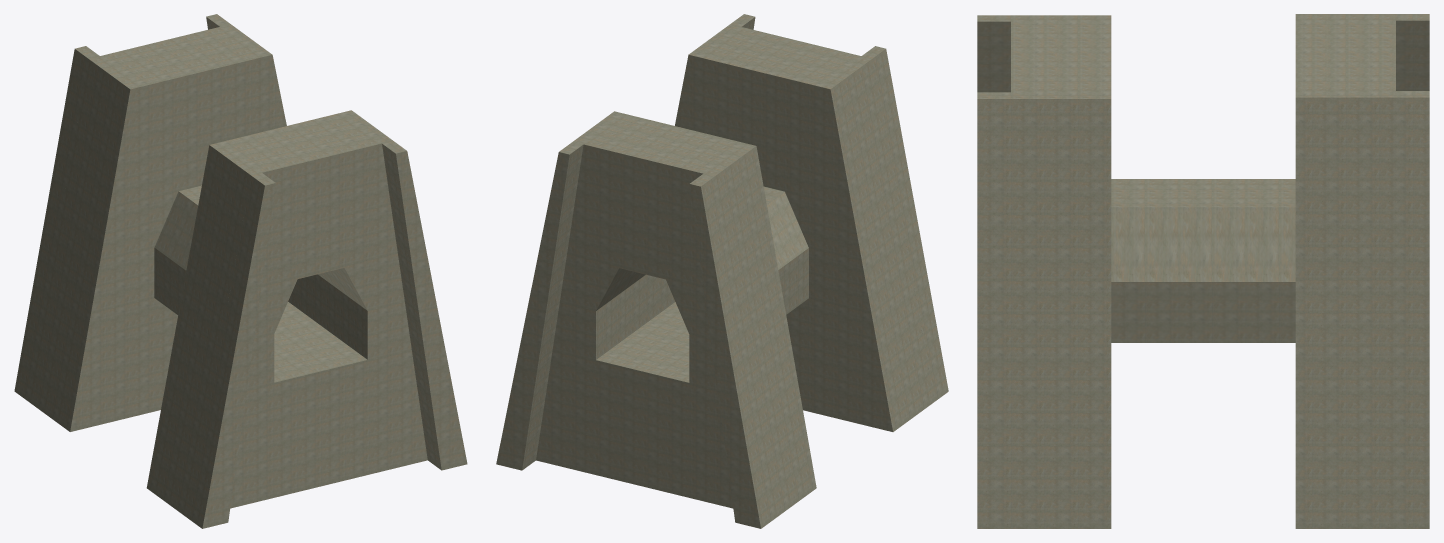
Rendered from tunnel_exit.fbx.
The picture shows the model from 3 angles, left to right: view 1: azimuth 30°, elevation 25°; view 2: azimuth 150°, elevation 25°; view 3: azimuth 270°, elevation 25°; orthographic projection. The views are drawn at different scales.
Parts seen in each view (by area): view 1: Object; view 2: Object; view 3: Object.
Boxes of the visible parts, x1,y1,x2,y2 form: Object: (14,14,467,528); Object: (496,14,948,528); Object: (977,14,1429,528).
Size of the model in its own units: 17600 by 20800 by 21600.
